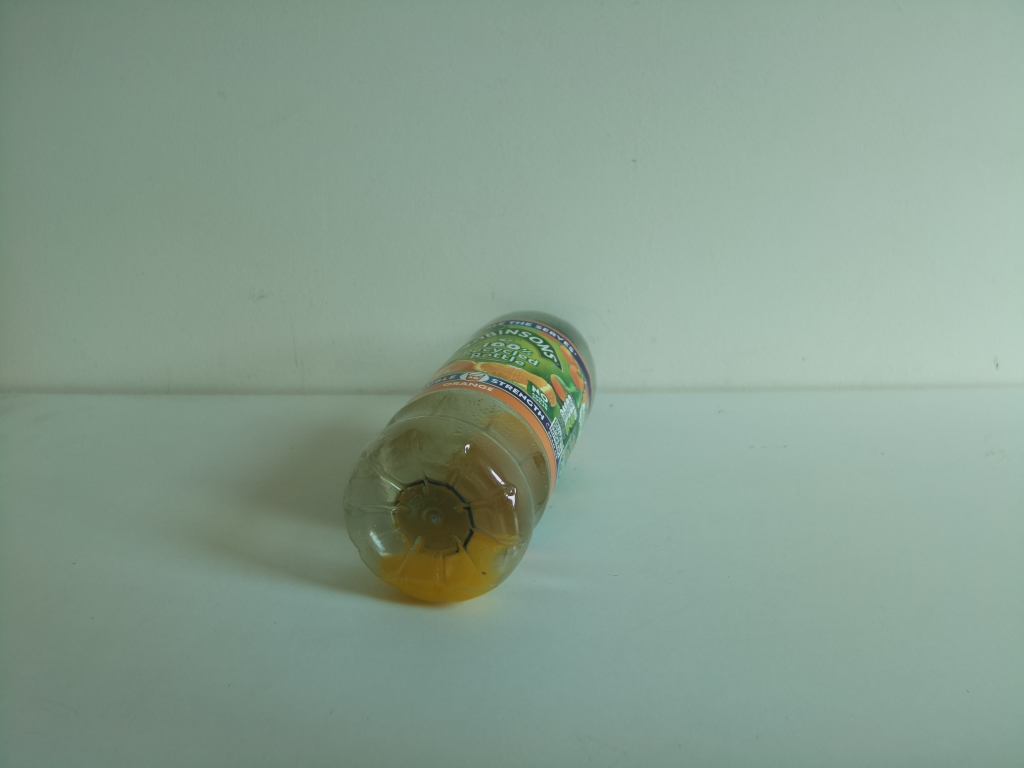juice: (342, 303, 603, 612)
